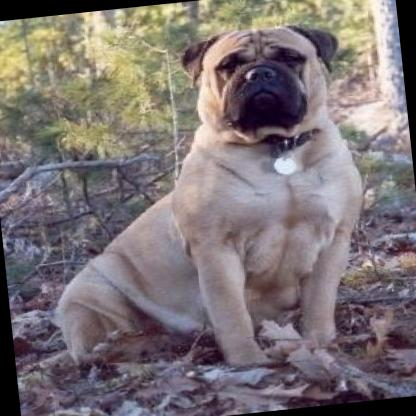bull_mastiff: (27, 18, 379, 386)
